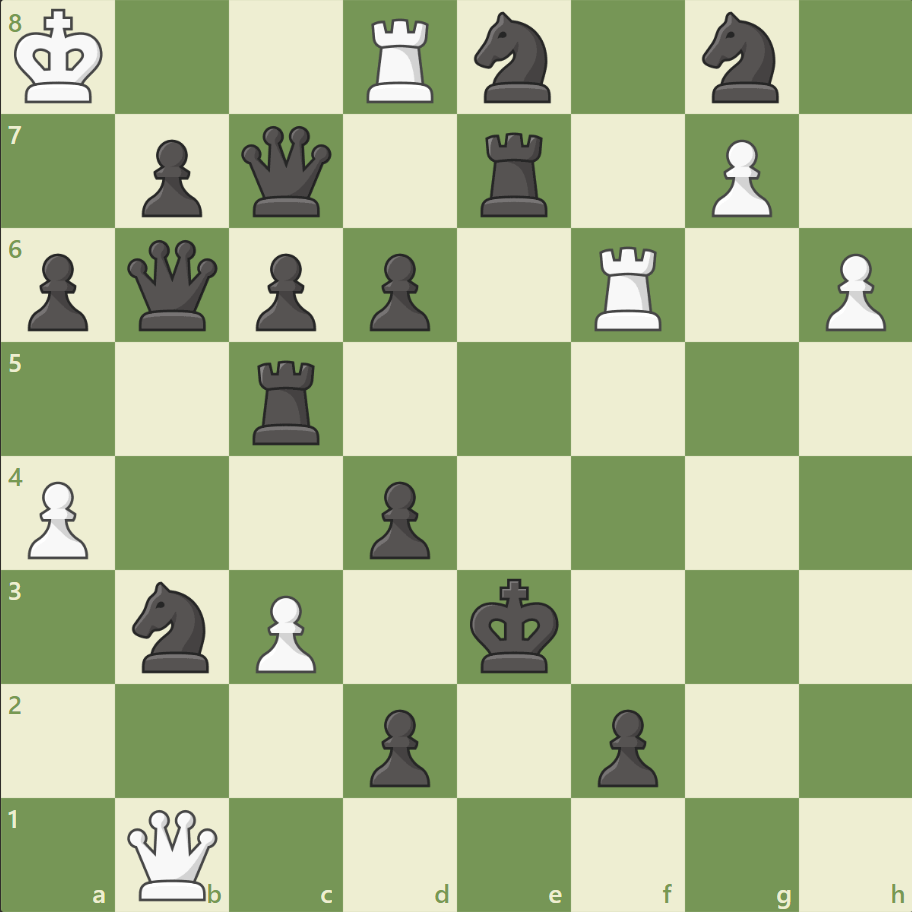K: (11, 4, 111, 112)
P: (701, 132, 776, 223), (20, 473, 95, 564), (247, 586, 322, 677), (815, 246, 889, 337)
Q: (124, 804, 223, 903)
R: (587, 239, 670, 336), (360, 12, 442, 109)
k: (465, 571, 565, 679)
n: (124, 575, 222, 677), (465, 7, 562, 110), (692, 7, 789, 110)
p: (133, 132, 208, 223), (20, 246, 95, 337), (247, 246, 322, 337), (361, 246, 435, 337), (361, 473, 435, 564), (361, 700, 435, 791), (588, 700, 662, 791)
q: (237, 122, 336, 222), (124, 236, 223, 335)
r: (473, 125, 556, 222), (246, 352, 329, 449)
